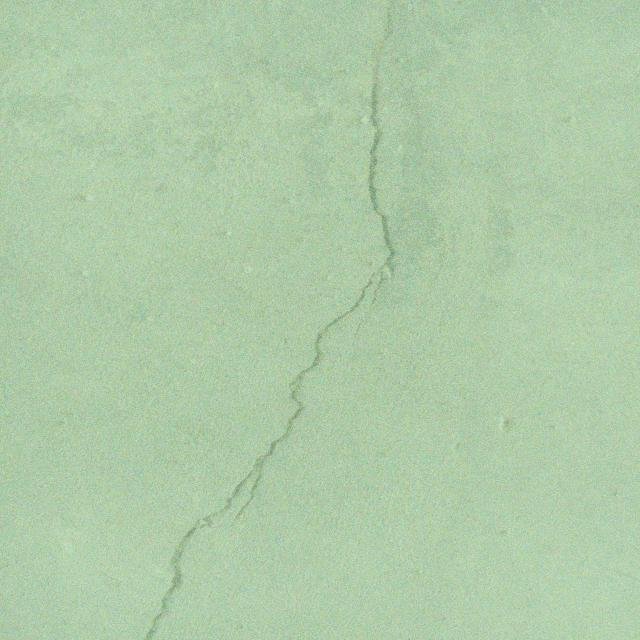crack: (143, 8, 400, 640)
